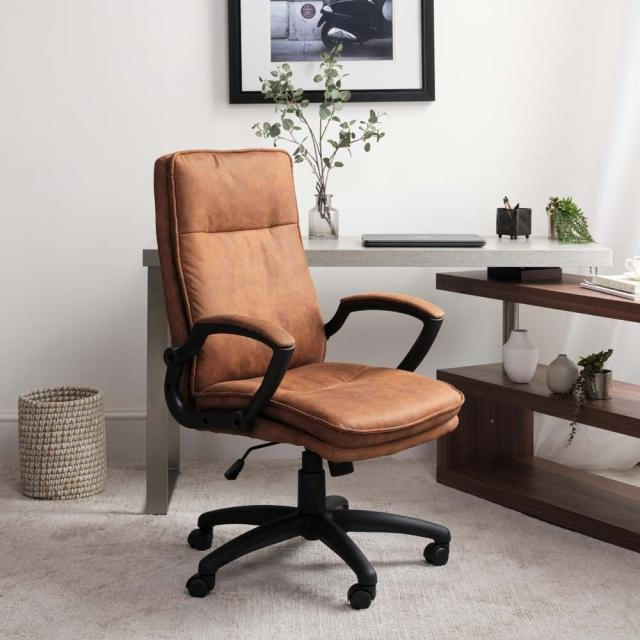chair: (100, 125, 490, 634)
